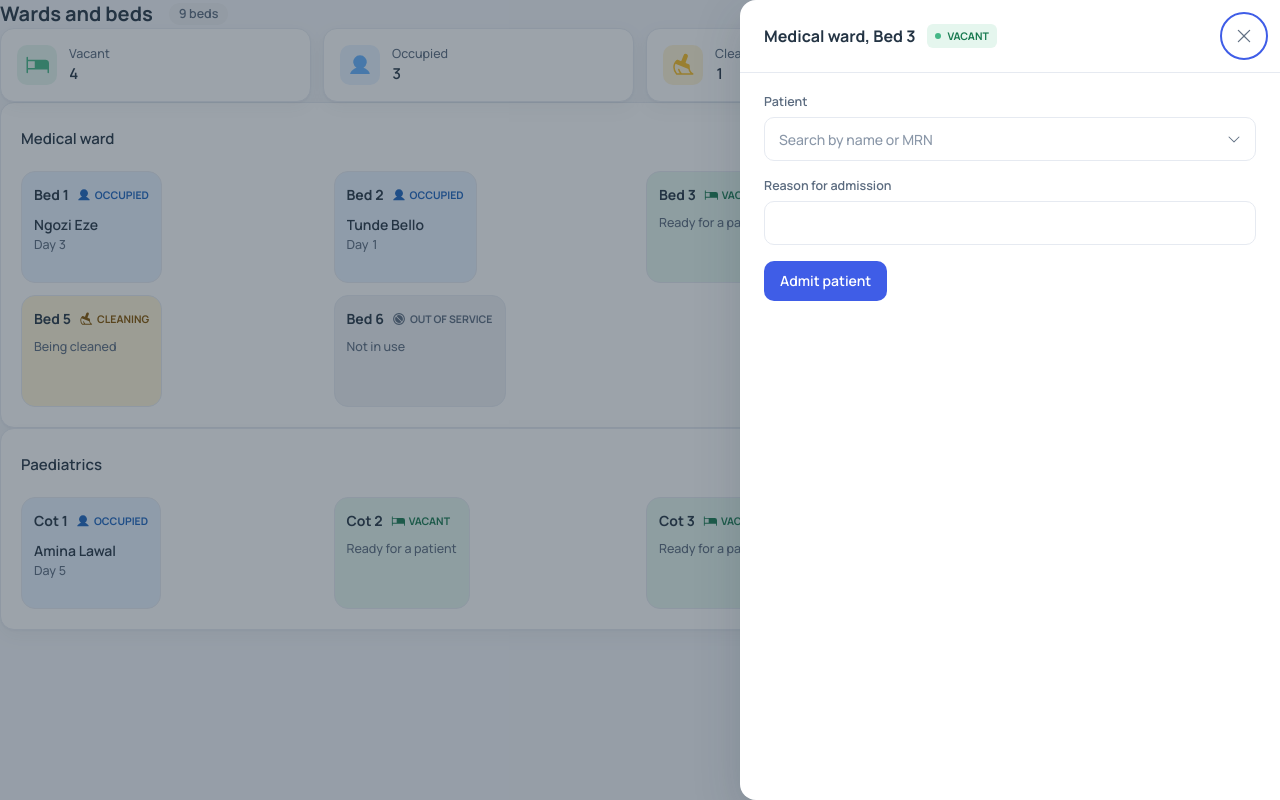
Test: admitting › admits a patient to a vacant bed, which becomes occupied
Expected: the text "Vacant" is shown, x1=928 y1=24 x2=997 y2=48
Click the dropdown labelled "Patient" at (1010, 139), box x1=764 y1=117 x2=1256 y2=161
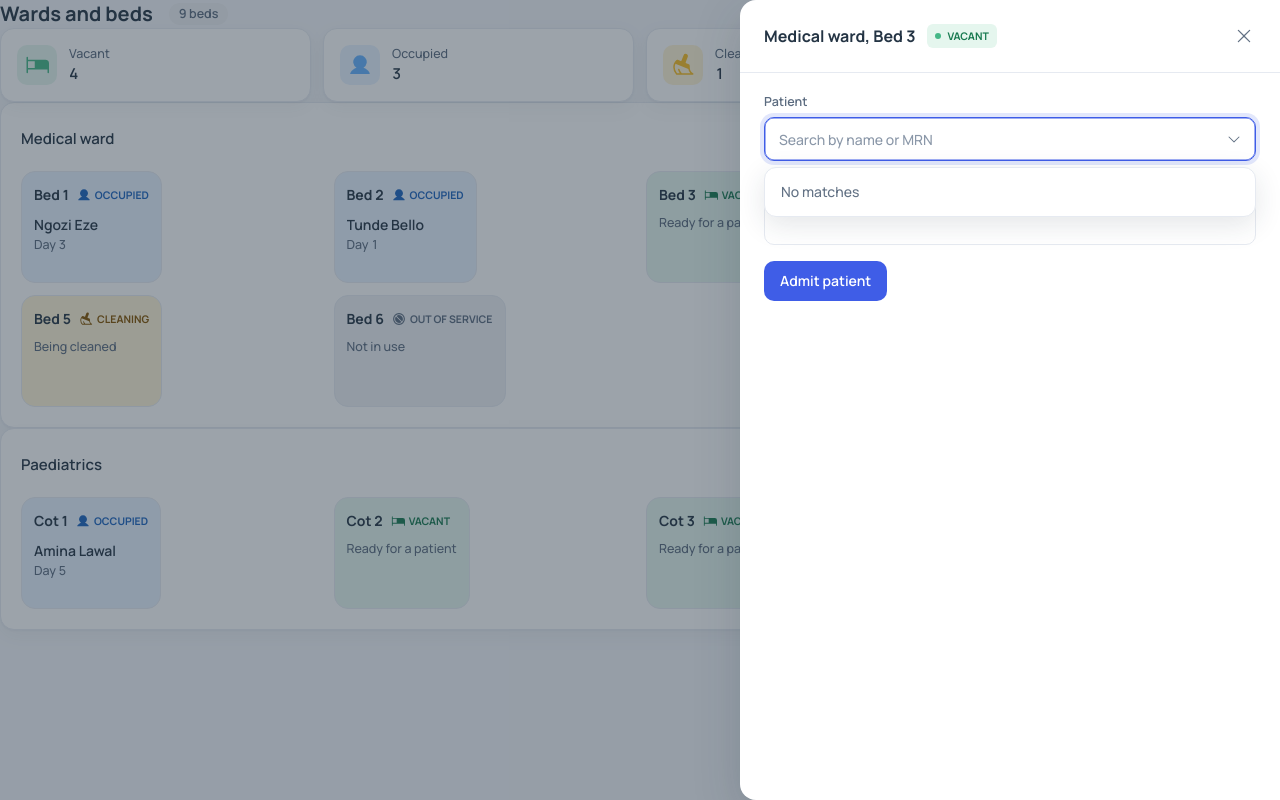
Type keys "Damilola"
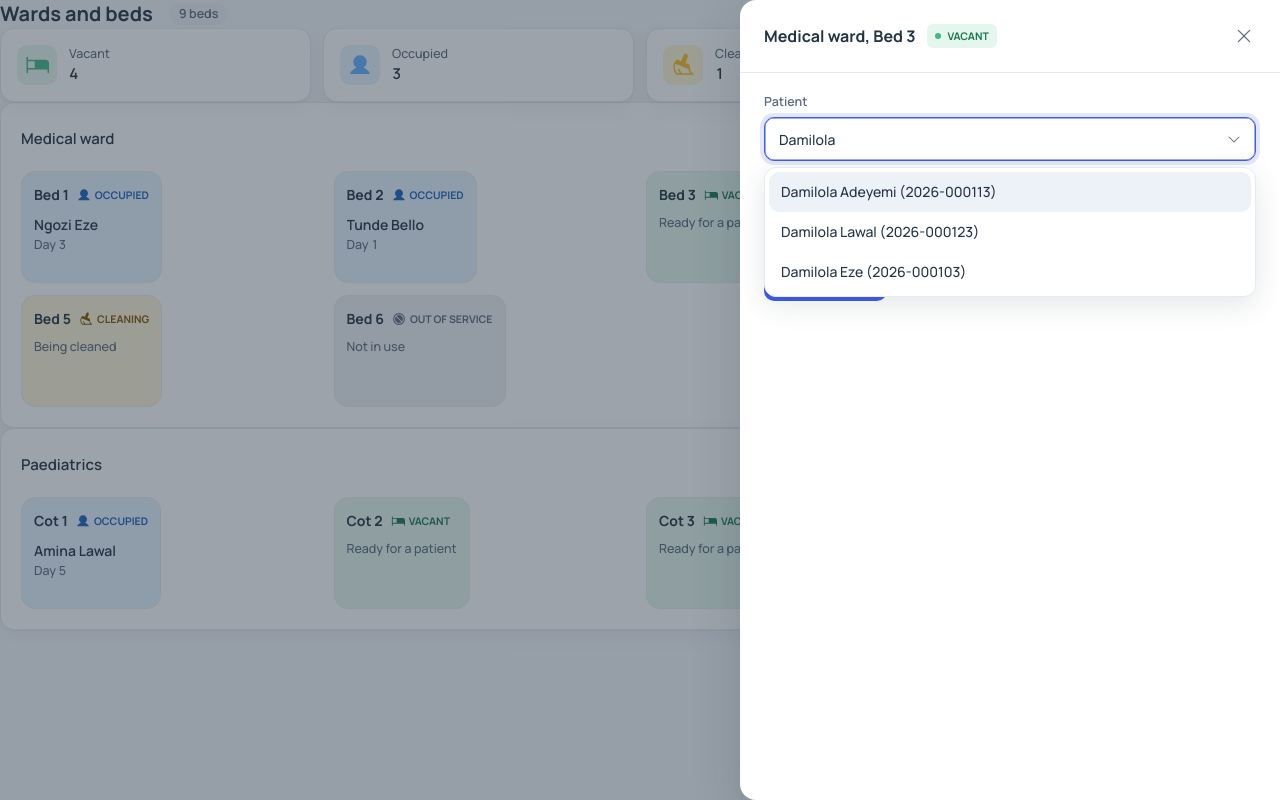
Click the option "Damilola Eze (2026-000103)" at (874, 272), box x1=781 y1=262 x2=966 y2=281
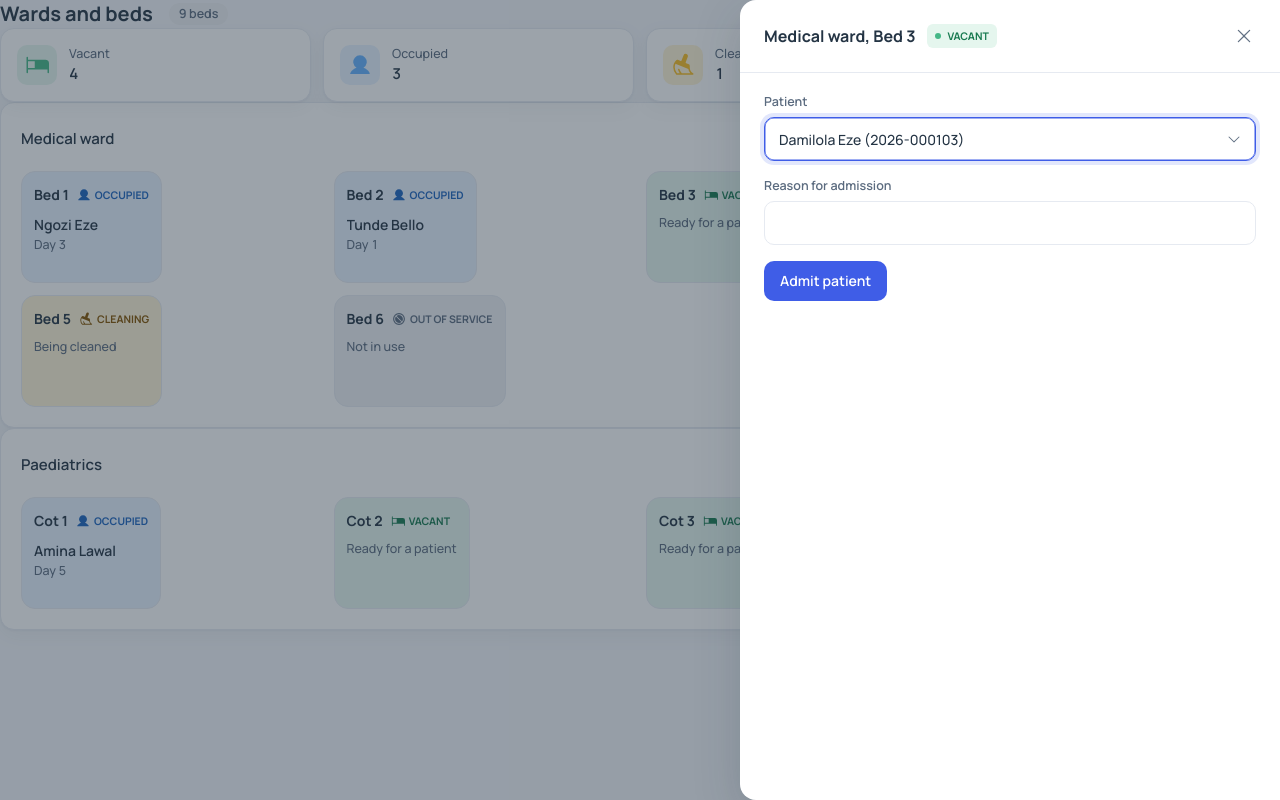
Type "Observation after surgery" into the field labelled "Reason for admission" at (1010, 223), box x1=764 y1=201 x2=1256 y2=245
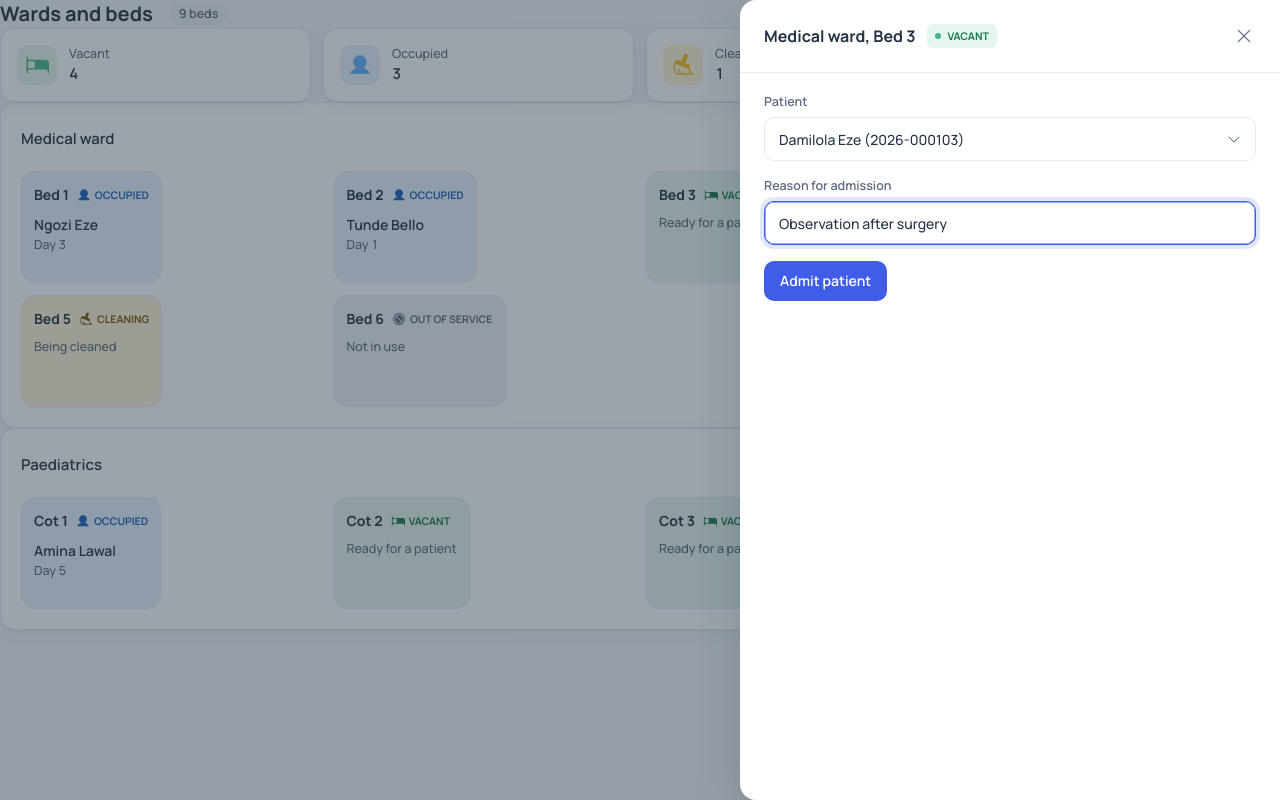
Click the button "Admit patient" at (826, 281), box x1=764 y1=261 x2=887 y2=301
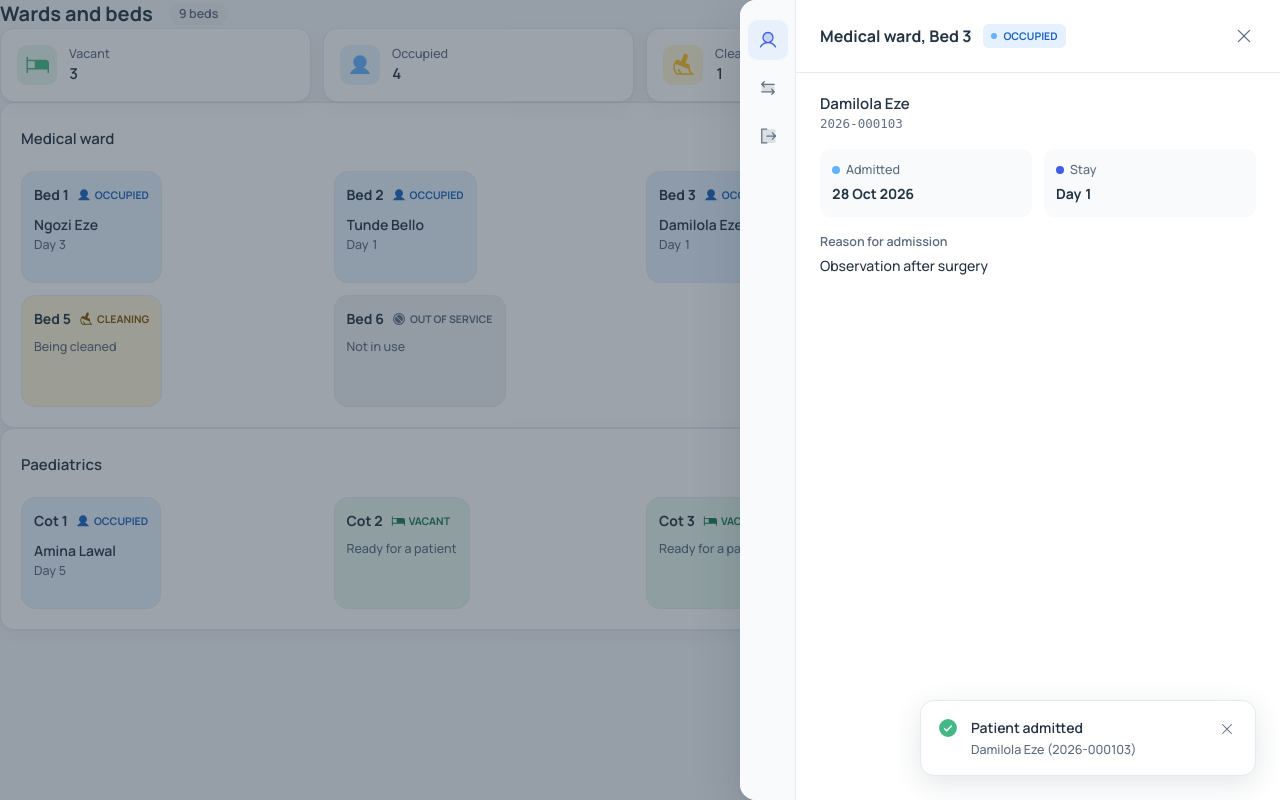
Expected: the text "Patient admitted" is shown, x1=971 y1=718 x2=1083 y2=737
